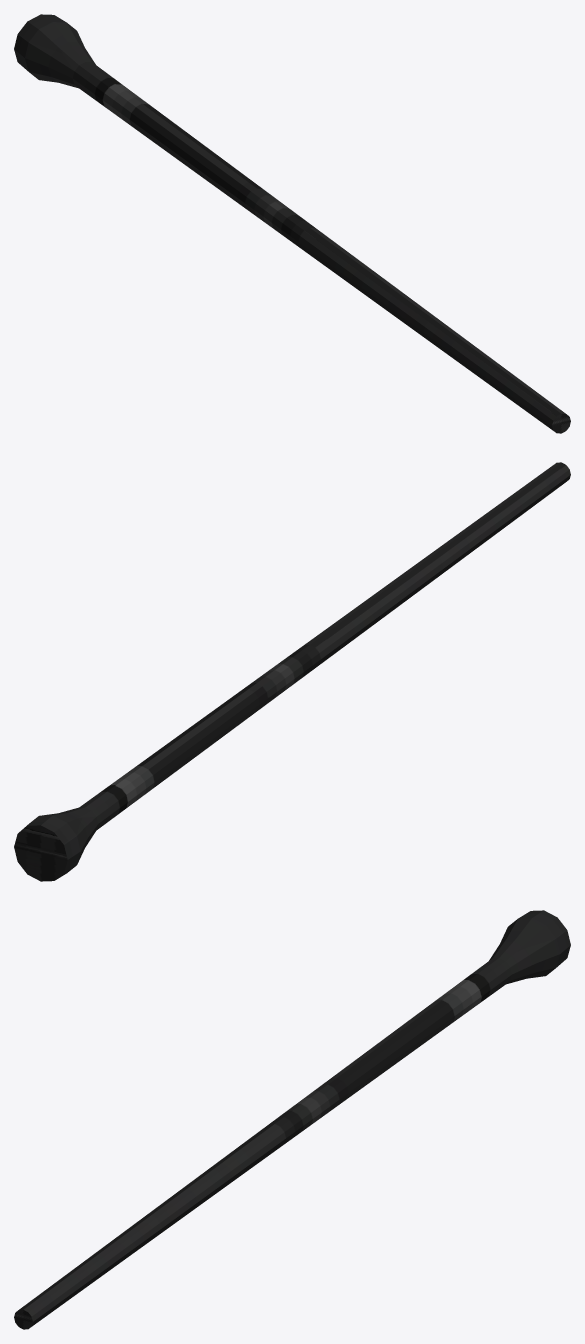
The model's file is pz_street_pole_04.obj.
The picture shows the model from 3 angles, top to bottom: view 1: azimuth 30°, elevation 25°; view 2: azimuth 150°, elevation 25°; view 3: azimuth 330°, elevation 25°; orthographic projection.
Parts seen in each view (by area): view 1: pz_street_pole_04_|_tapered_native_street_pole; view 2: pz_street_pole_04_|_tapered_native_street_pole; view 3: pz_street_pole_04_|_tapered_native_street_pole.
Part boxes in pixels (left/top/right/bottom): pz_street_pole_04_|_tapered_native_street_pole: left=14, top=14, right=570, bottom=433; pz_street_pole_04_|_tapered_native_street_pole: left=14, top=462, right=570, bottom=881; pz_street_pole_04_|_tapered_native_street_pole: left=14, top=910, right=570, bottom=1329.
Size of the model in its own units: 0.148 by 0.148 by 2.39.
1 material, 1 textured.
